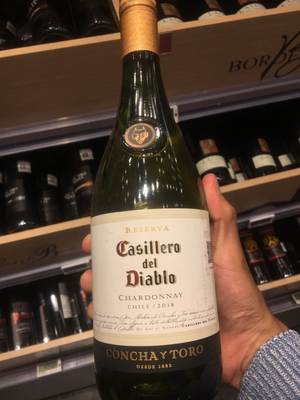casillero del diablo chardonnay: (92, 20, 233, 396)
